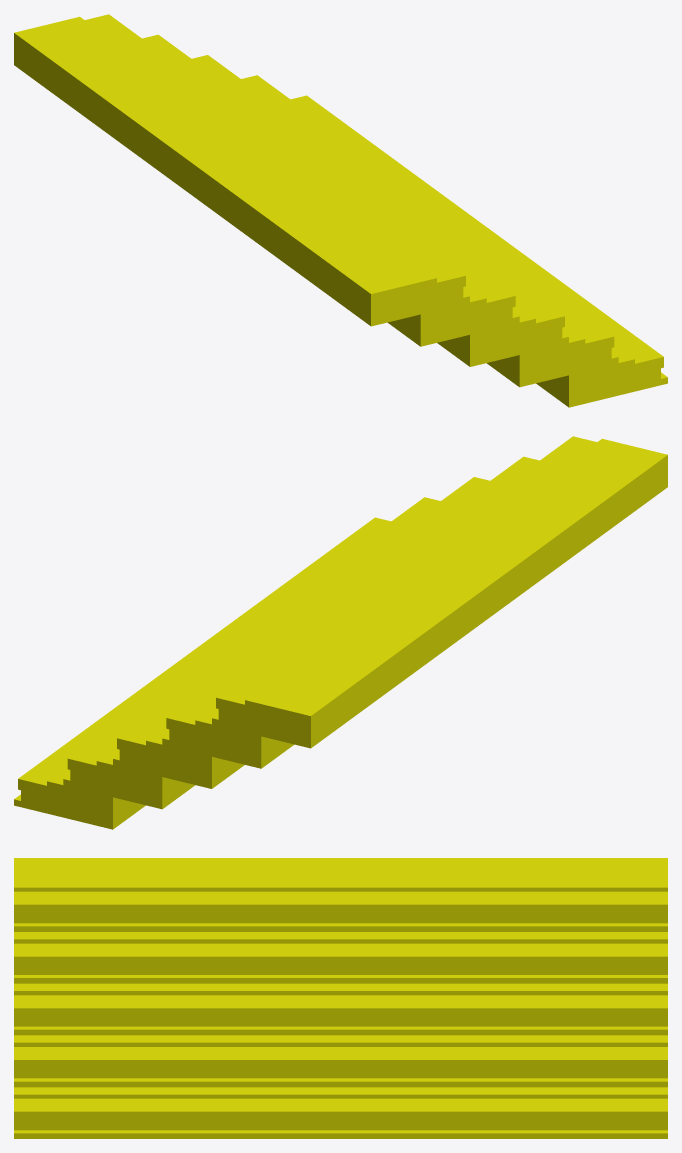
File: stairs_straight.fbx
3 views of the same model, one above another, from view 1: azimuth 30°, elevation 25°; view 2: azimuth 150°, elevation 25°; view 3: azimuth 270°, elevation 25° (orthographic). The views are drawn at different scales.
Parts seen in each view (by area): view 1: stairs straight.002; view 2: stairs straight.002; view 3: stairs straight.002.
Part boxes in pixels (x1,y1,x2,y2): stairs straight.002: [14, 14, 667, 407]; stairs straight.002: [14, 436, 667, 829]; stairs straight.002: [14, 858, 667, 1138].
Size of the model in its own units: 240 by 125 by 500.
